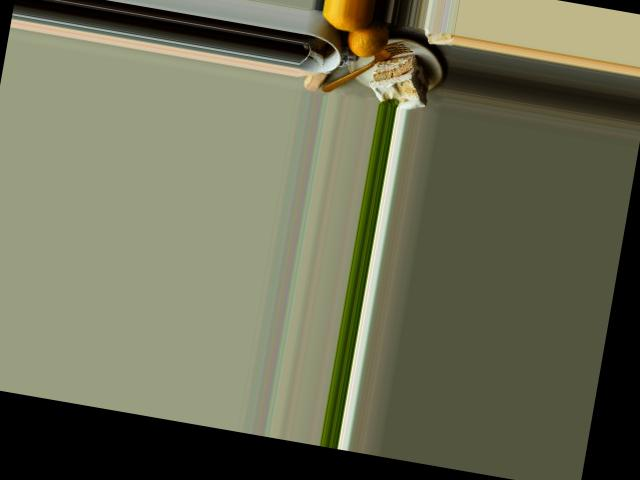lemon: (318, 9, 373, 36)
